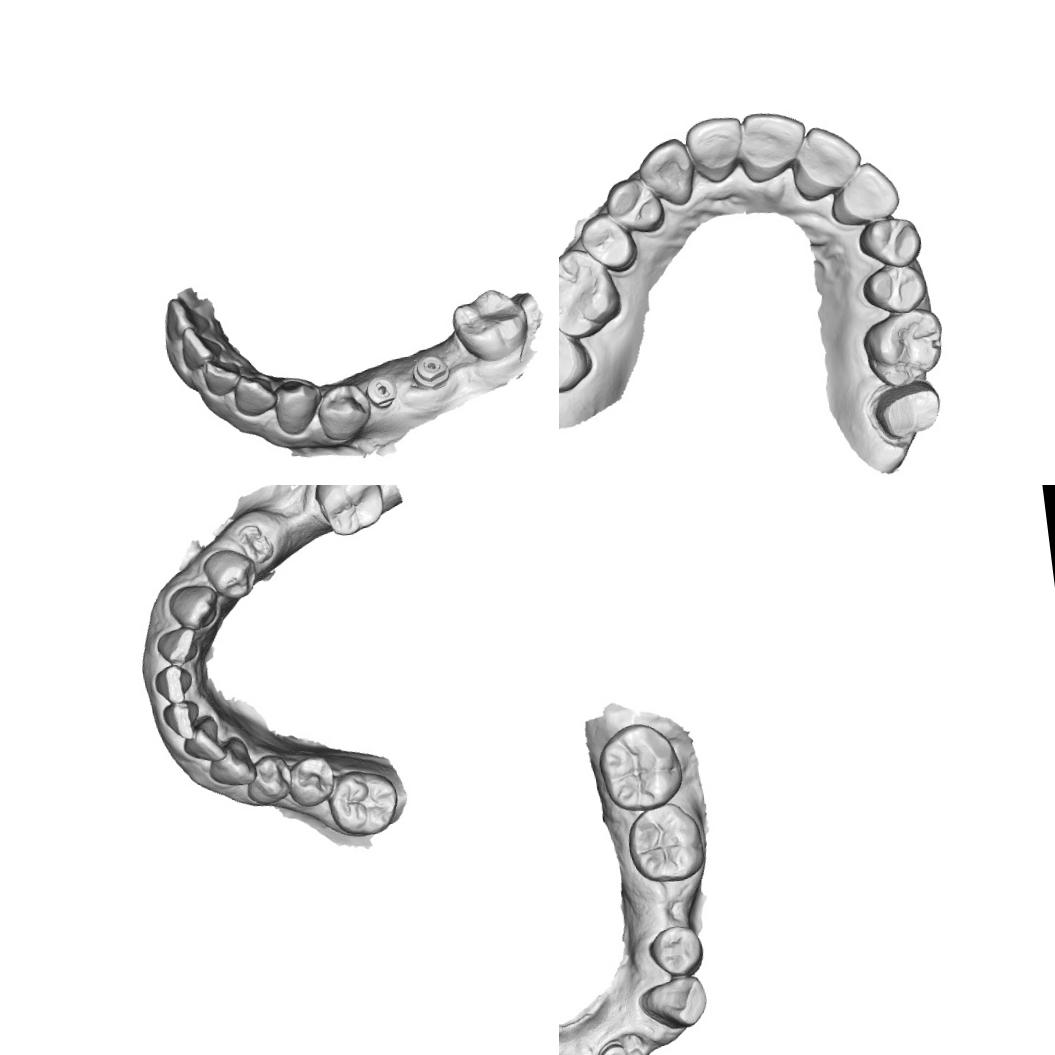canine: (632, 134, 700, 211), (638, 974, 713, 1032), (270, 374, 326, 439), (203, 733, 259, 790), (164, 580, 223, 634)
crown: (866, 378, 949, 448)
implant: (408, 352, 452, 392)
implant_minus: (362, 372, 401, 412), (595, 1039, 630, 1055)
incisor: (786, 120, 866, 204), (824, 158, 904, 231), (737, 105, 808, 186), (681, 110, 750, 187), (178, 322, 227, 374), (179, 713, 227, 766), (230, 370, 280, 420), (162, 292, 210, 342), (159, 695, 203, 743), (153, 624, 202, 667), (152, 661, 196, 708), (201, 355, 243, 398)
molar: (849, 304, 956, 396), (597, 720, 680, 810), (623, 802, 708, 887), (449, 284, 532, 367), (559, 242, 626, 344), (324, 764, 404, 841), (310, 485, 388, 541), (559, 309, 595, 399)
premolar: (857, 258, 933, 320), (575, 208, 640, 277), (602, 174, 668, 239), (856, 212, 926, 273), (313, 380, 375, 446), (198, 544, 262, 604), (646, 921, 710, 979), (242, 750, 296, 808), (284, 751, 337, 810)
